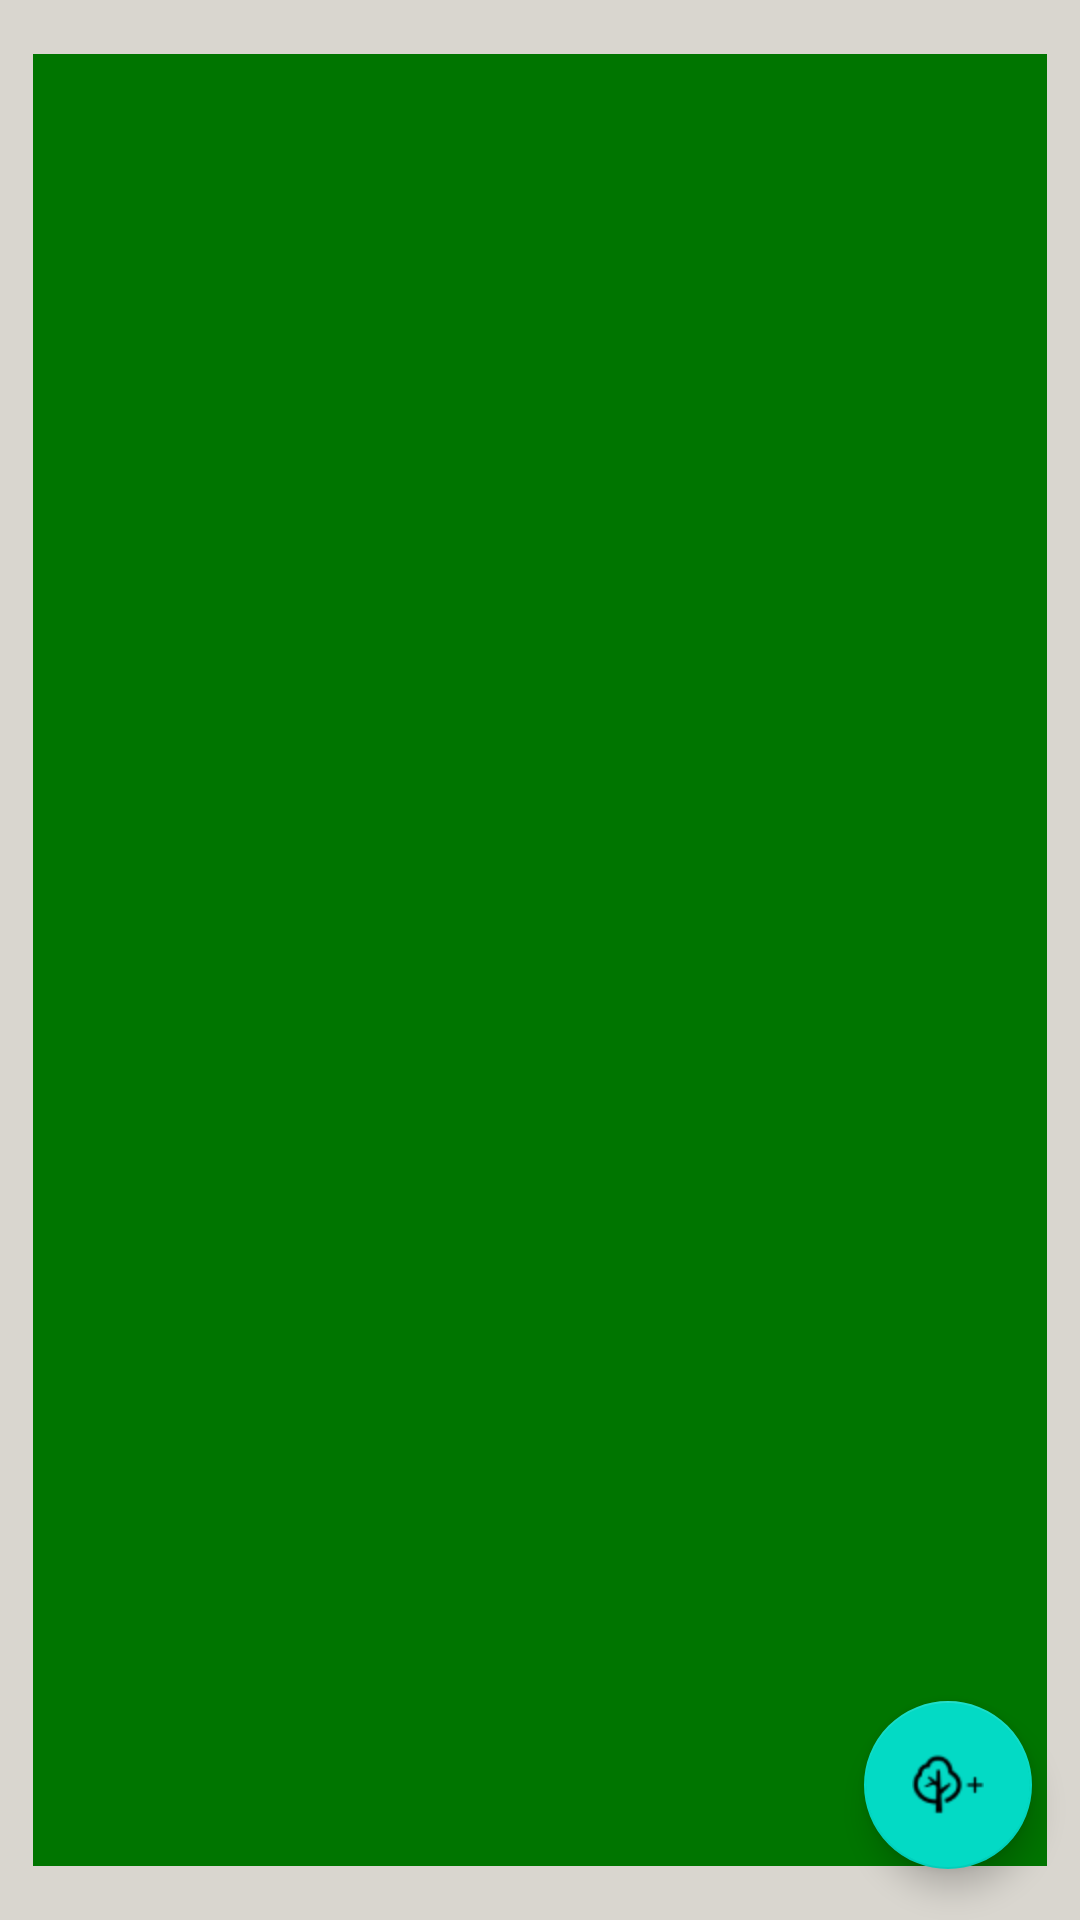

Icons on this 1080px×1920px Android screen, each with the point to tap as (x,y):
add tree: (948,1785)
